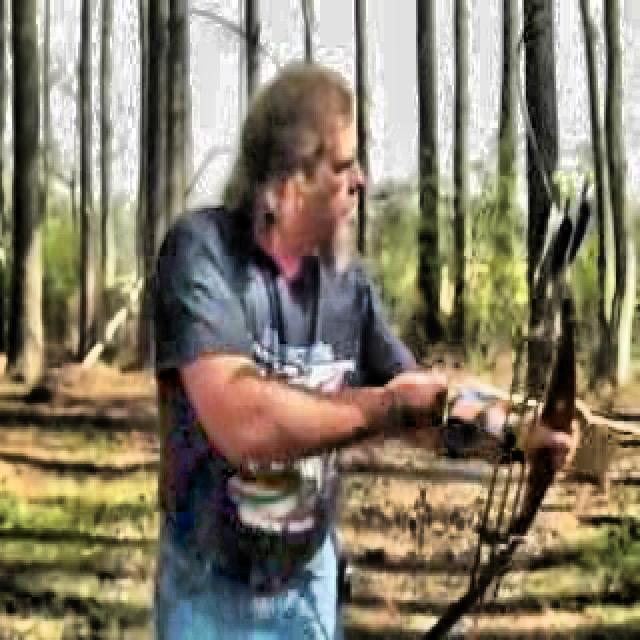I: (137, 39, 601, 596)
